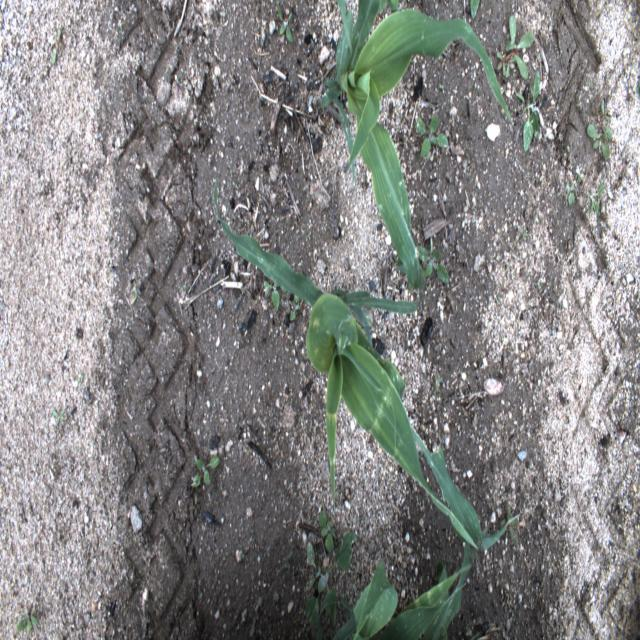crop: (212, 175, 478, 548), (321, 0, 512, 291), (315, 421, 519, 639)
weed: (305, 529, 357, 631), (497, 14, 534, 81), (515, 70, 540, 152), (413, 234, 450, 284), (414, 112, 449, 159), (586, 113, 613, 160), (192, 452, 222, 489), (501, 505, 519, 549), (318, 509, 335, 554), (276, 1, 294, 43), (263, 276, 281, 312), (588, 183, 606, 217), (15, 613, 39, 636), (51, 28, 62, 66), (278, 549, 294, 574), (289, 290, 300, 320), (564, 178, 575, 206), (600, 101, 611, 124), (469, 0, 481, 20), (51, 408, 65, 424), (434, 372, 443, 395), (180, 283, 188, 291), (77, 374, 84, 383), (537, 279, 541, 292)
